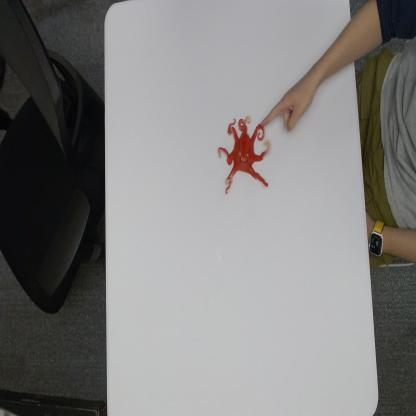Arm: (312, 3, 359, 90)
Hand: (261, 68, 315, 135)
Octopus: (217, 112, 273, 196)
